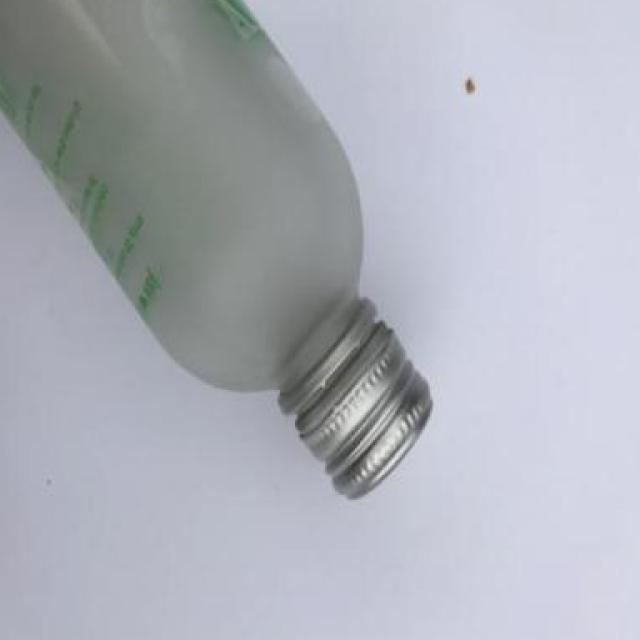kaca: (0, 1, 369, 402)
